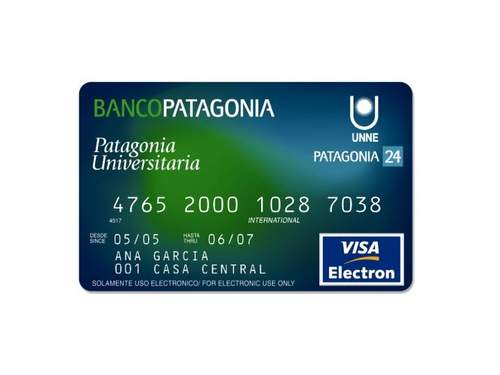tarjeta: (77, 81, 414, 292)
